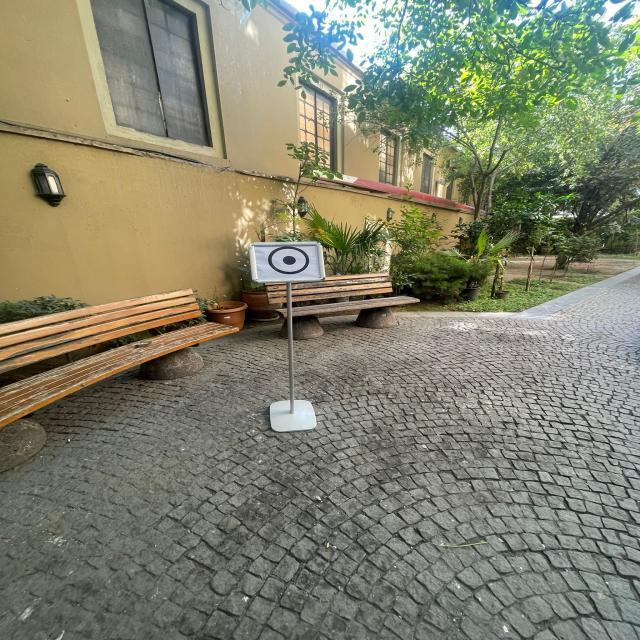Target: (239, 233, 342, 291)
inner: (280, 252, 300, 267)
